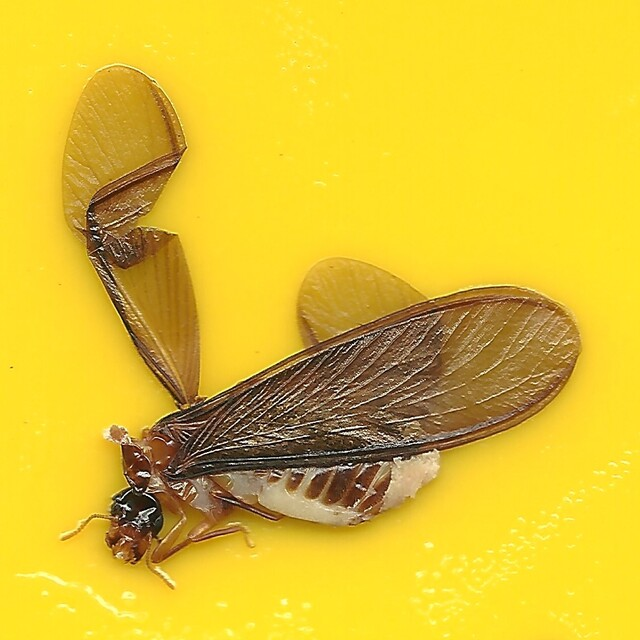Isoptera: (57, 63, 583, 577)
